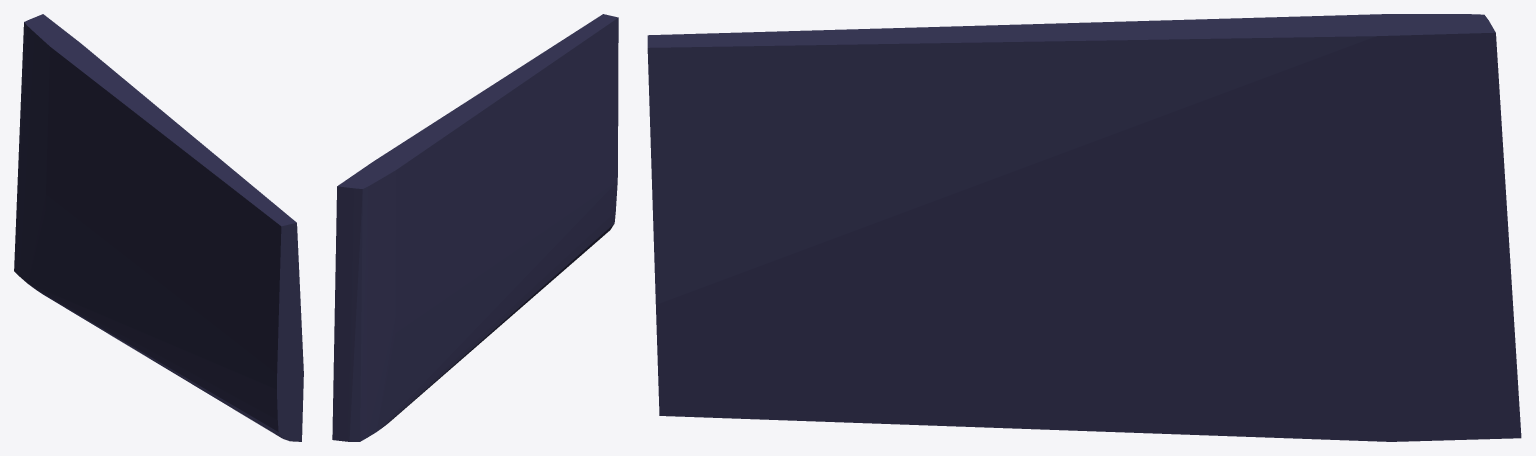
Rendered from converted_Downdraft_Assy_collision_86_333255ff.obj.
3 renders of one model, left to right at view 1: azimuth 30°, elevation 25°; view 2: azimuth 150°, elevation 25°; view 3: azimuth 270°, elevation 25°, orthographic. The views are drawn at different scales.
Size of the model in its own units: 0.0292 by 0.247 by 0.4753.
